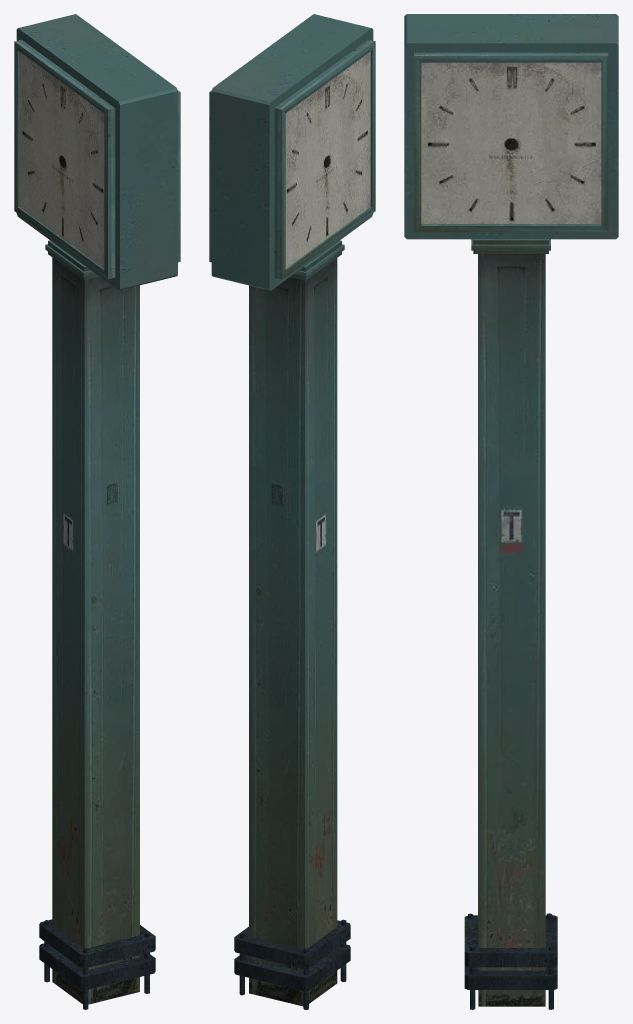
File: clock01.glb
The picture shows the model from 3 angles, left to right: view 1: azimuth 30°, elevation 25°; view 2: azimuth 150°, elevation 25°; view 3: azimuth 270°, elevation 25°; orthographic projection. The views are drawn at different scales.
Visible parts, largest first — view 1: 0_ClockLarge01; view 2: 0_ClockLarge01; view 3: 0_ClockLarge01.
Boxes of the visible parts, bbox=[...] form: 0_ClockLarge01: bbox=[14, 14, 180, 1009]; 0_ClockLarge01: bbox=[209, 14, 375, 1009]; 0_ClockLarge01: bbox=[404, 14, 618, 1009].
Size of the model in its own units: 0.2898 by 3.43 by 0.6924.
1 material, 1 textured.
